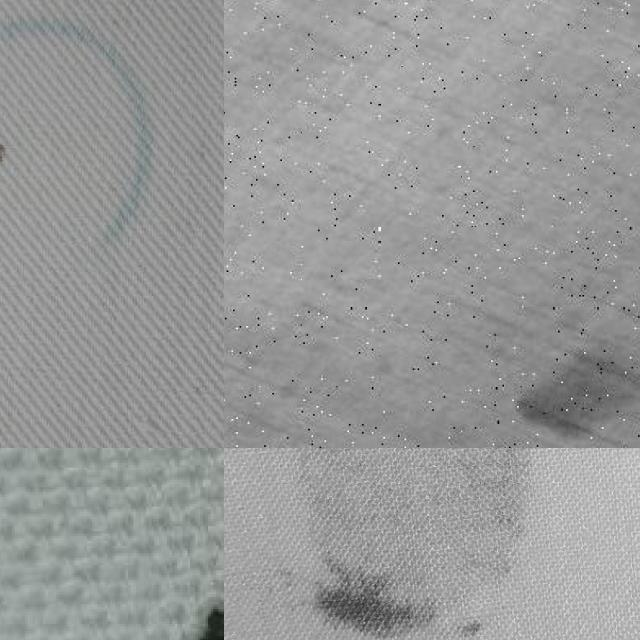Hole: (266, 448, 547, 640), (489, 298, 640, 448)
